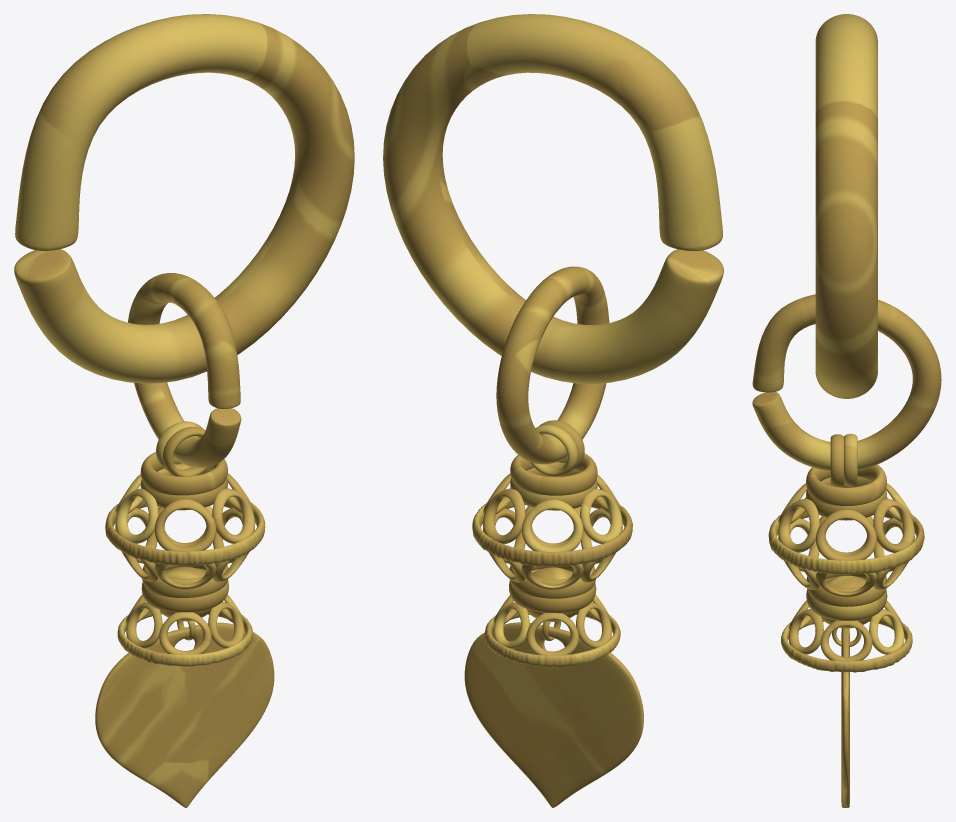
3 renders of one model, left to right at view 1: azimuth 30°, elevation 25°; view 2: azimuth 150°, elevation 25°; view 3: azimuth 270°, elevation 25°, orthographic. The views are drawn at different scales.
Visible parts, largest first — view 1: SM_CL20108; view 2: SM_CL20108; view 3: SM_CL20108.
Part boxes in pixels (left/top/right/bottom): SM_CL20108: left=14, top=14, right=354, bottom=807; SM_CL20108: left=383, top=14, right=723, bottom=807; SM_CL20108: left=752, top=14, right=941, bottom=807.
Bounding box in the file's own units: 0.0219 × 0.0498 × 0.0111.
Materials: 1 (1 with a texture image).
